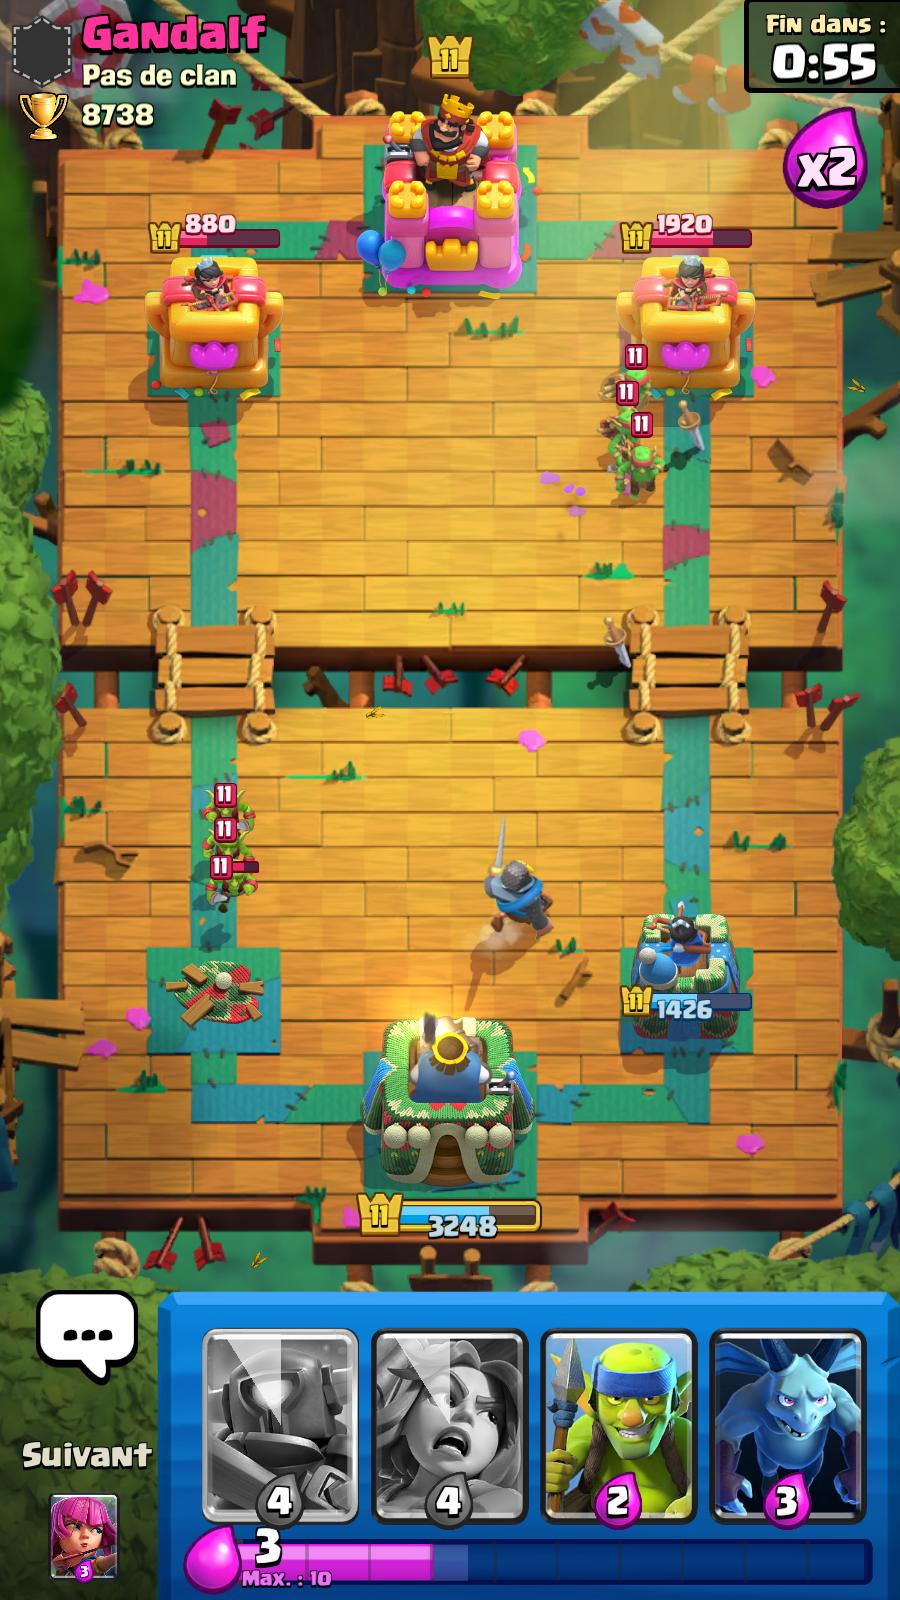chevalier: (479, 835, 566, 952)
gobelin: (192, 848, 267, 924), (195, 779, 267, 836), (197, 821, 267, 868)
gobelin_lances: (597, 353, 677, 411), (607, 440, 677, 505), (598, 398, 663, 455)
